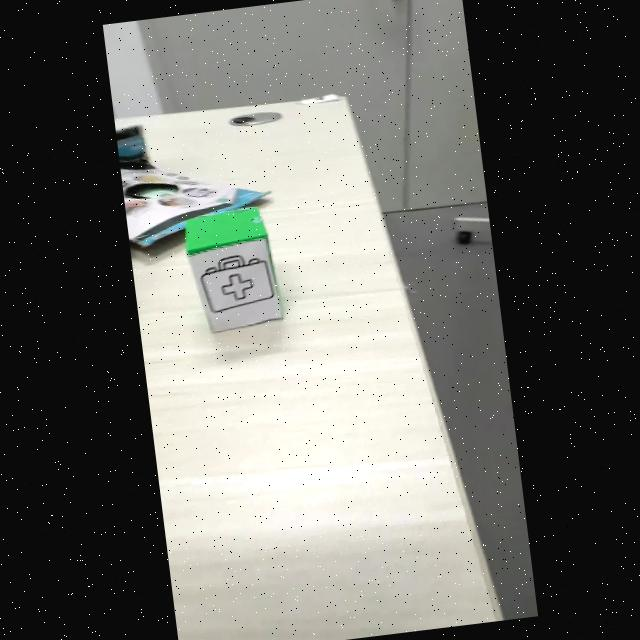Medkit: (200, 255, 273, 313)
